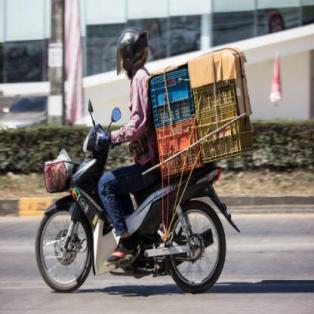Motocicleta: (35, 116, 228, 297)
